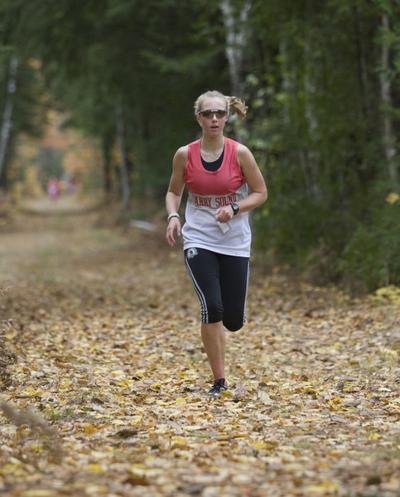person: (166, 89, 269, 397)
